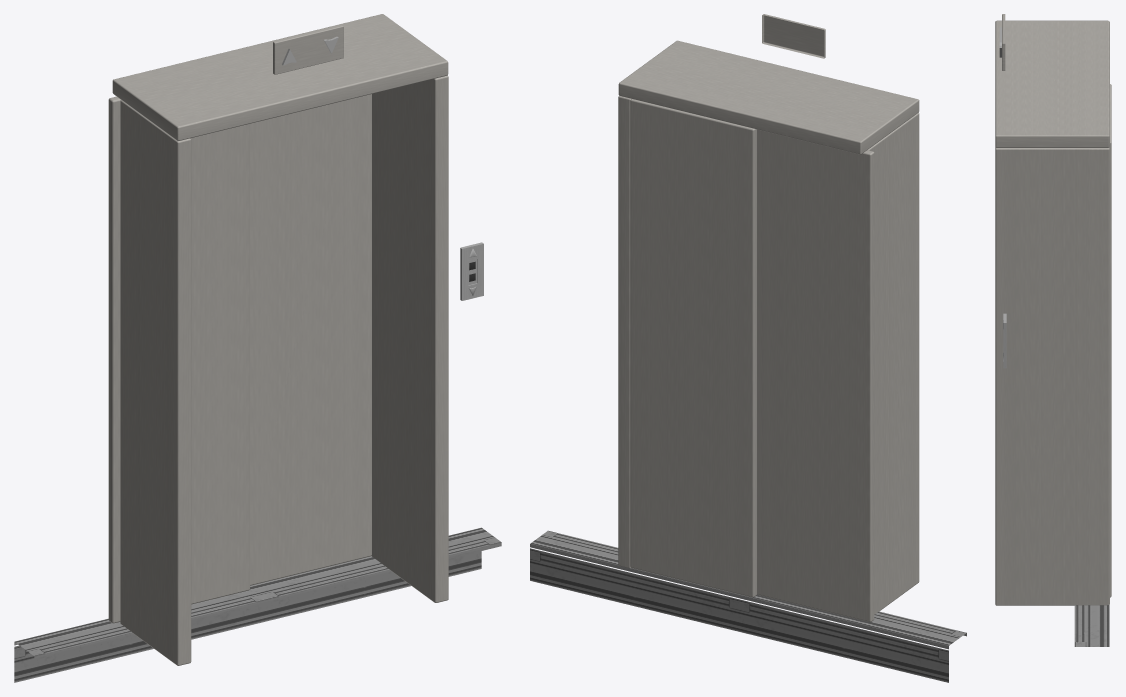
The model's file is SM_Elevator01b.fbx.
The picture shows the model from 3 angles, left to right: view 1: azimuth 30°, elevation 25°; view 2: azimuth 150°, elevation 25°; view 3: azimuth 270°, elevation 25°; orthographic projection. The views are drawn at different scales.
Parts seen in each view (by area): view 1: SM_Elevator01b; view 2: SM_Elevator01b; view 3: SM_Elevator01b.
Part boxes in pixels (left/top/right/bottom): SM_Elevator01b: left=14, top=14, right=501, bottom=682; SM_Elevator01b: left=530, top=14, right=966, bottom=682; SM_Elevator01b: left=995, top=14, right=1111, bottom=646.
Bounding box in the file's own units: 200 × 260 × 49.45.
1 material, 1 textured.
